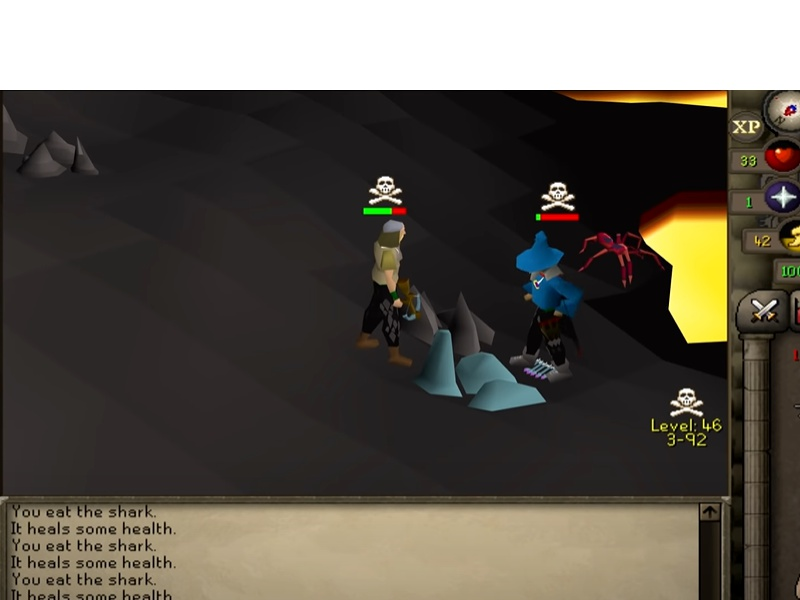rune: (409, 325, 554, 418)
